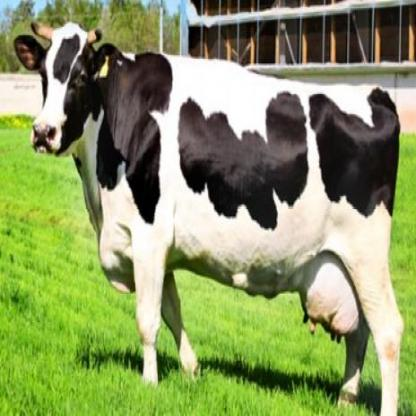cow: (13, 19, 405, 416)
